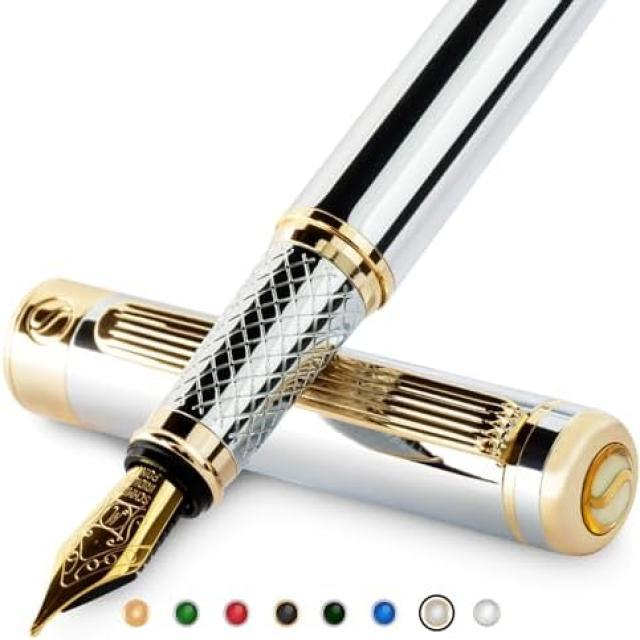Pen - Non Recyclable: (29, 0, 612, 639)
